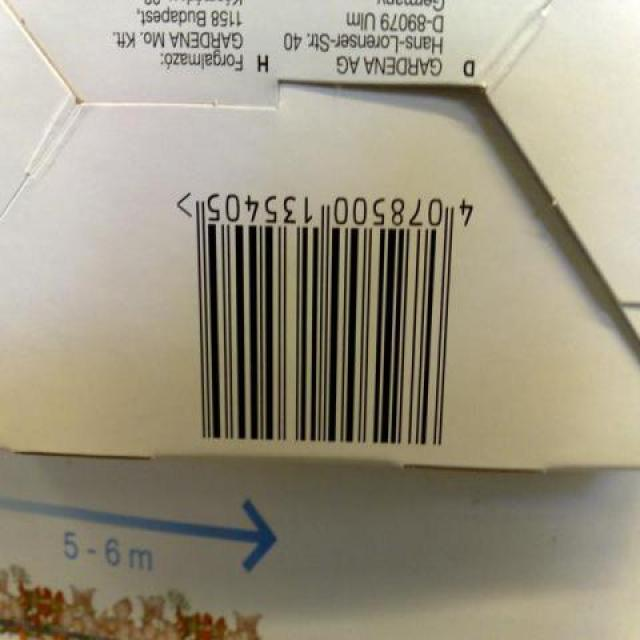Barcode: (165, 179, 494, 453)
